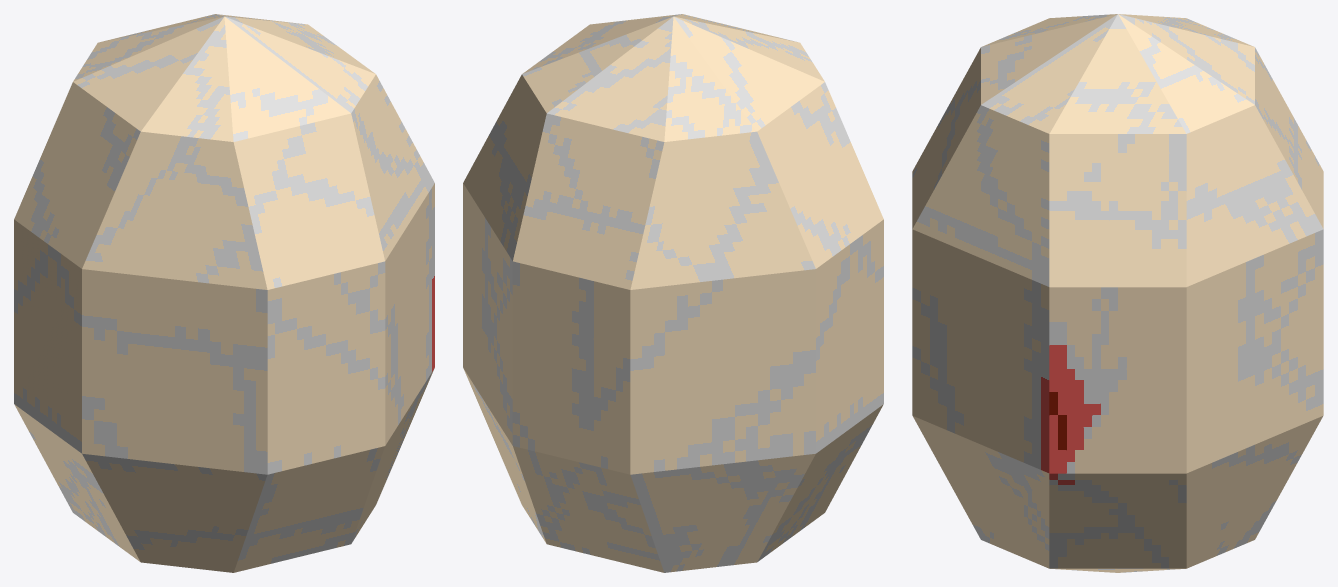
Rendered from head2.glb.
3 views of the same model, side by side, from view 1: azimuth 30°, elevation 25°; view 2: azimuth 150°, elevation 25°; view 3: azimuth 270°, elevation 25° (orthographic).
Visible parts, largest first — view 1: Mesh_0.008; view 2: Mesh_0.008; view 3: Mesh_0.008.
Boxes of the visible parts, bbox=[...] form: Mesh_0.008: bbox=[14, 14, 434, 572]; Mesh_0.008: bbox=[463, 14, 883, 572]; Mesh_0.008: bbox=[912, 14, 1323, 572].
Size of the model in its own units: 1.5 by 2.25 by 1.5.
1 material, 1 textured.
